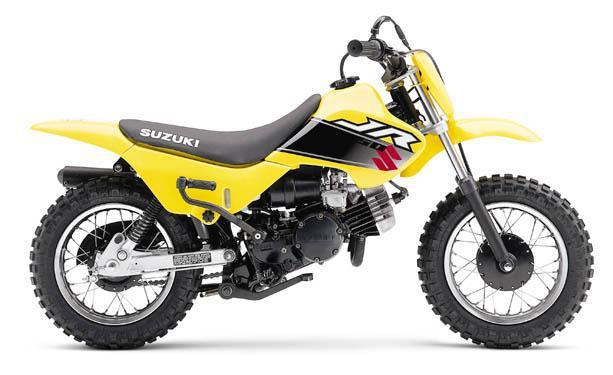motorcycle: (16, 1, 603, 367)
